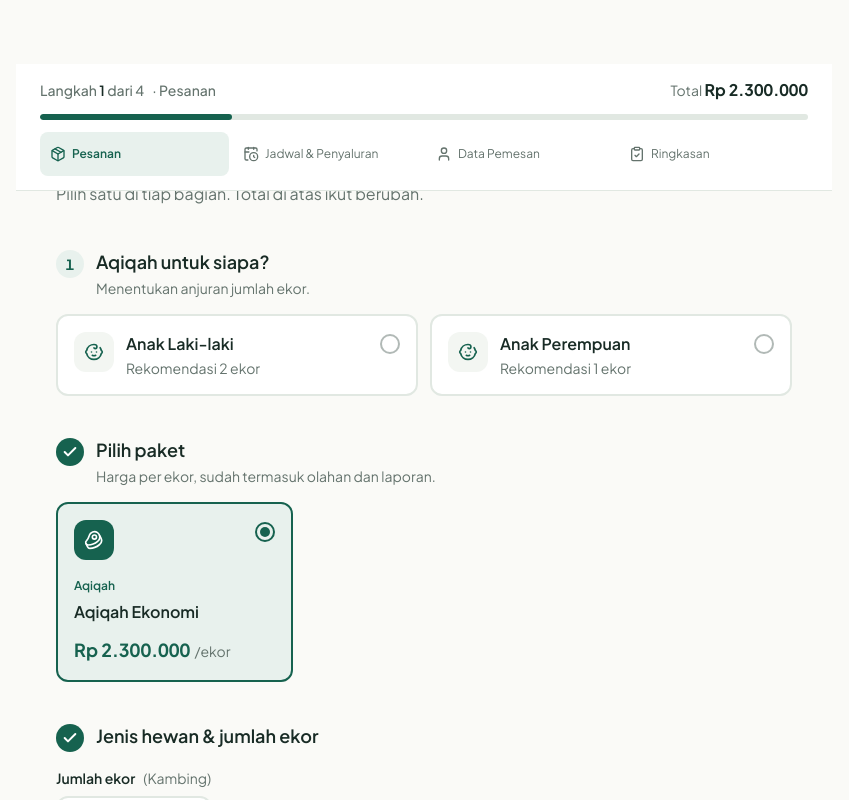
Test case: alur empat tahap › nasi box boleh dilewati lewat "Tidak pakai"
The image size is (849, 800).
Click the radio button labelled "Anak Laki-laki Rekomendasi 2 ekor" at coordinates (94, 352), box 56,314 -> 418,396
(page scrolled)
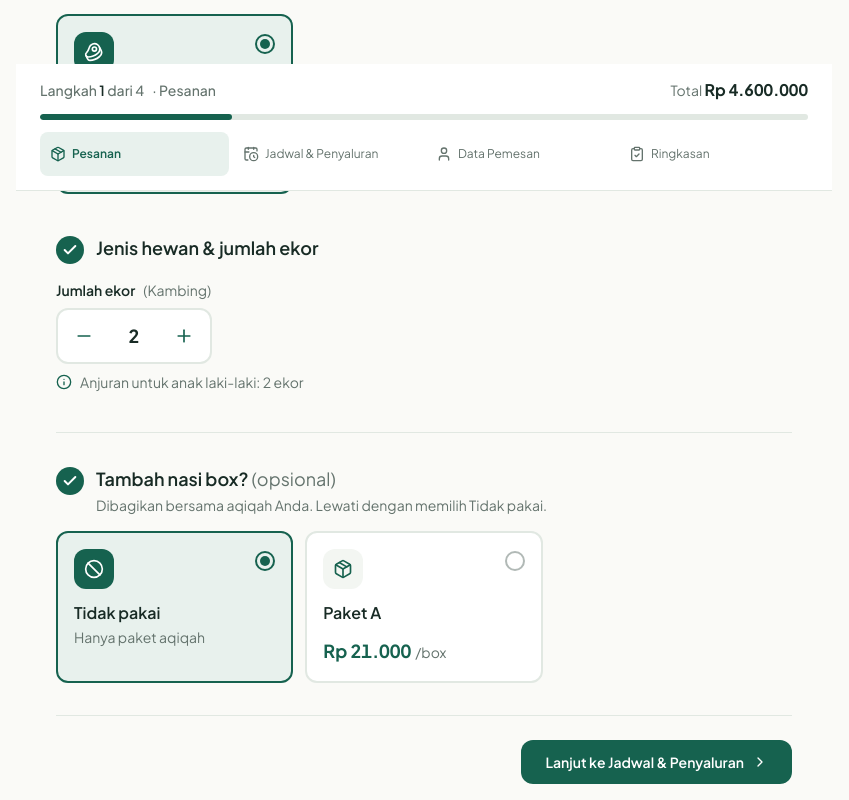
Click the button "Lanjut ke Jadwal & Penyaluran" at coordinates (657, 762), box 522,740 -> 792,784
(page scrolled)
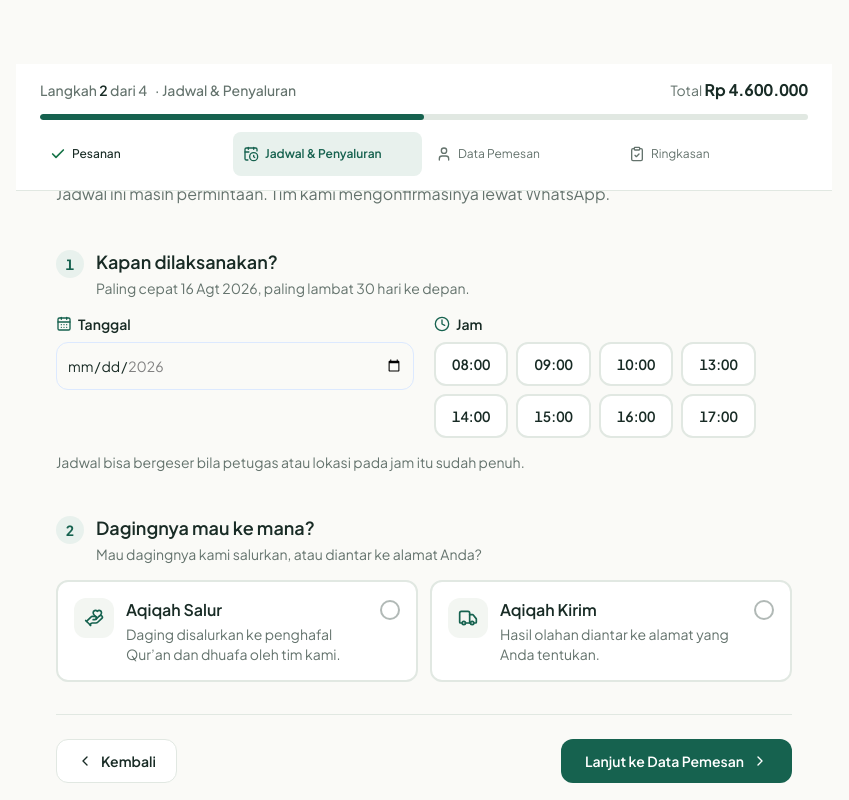
Check: the text "Dagingnya mau ke mana" is shown, box 96,516 -> 315,539
